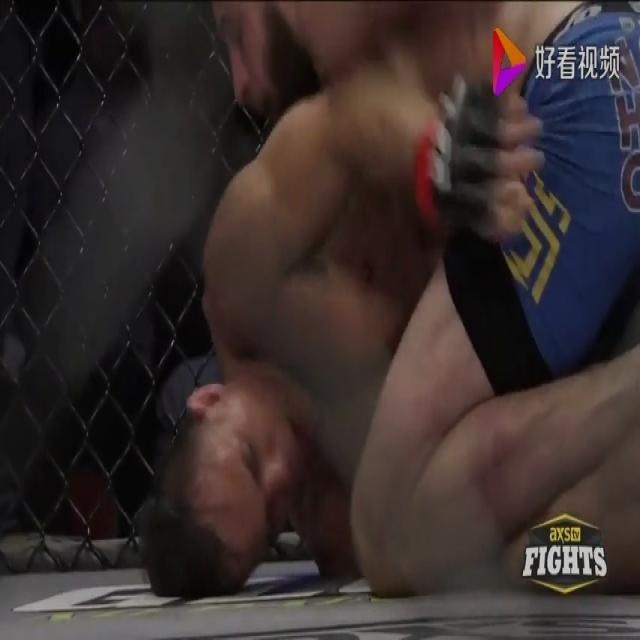fight: (54, 0, 639, 639)
